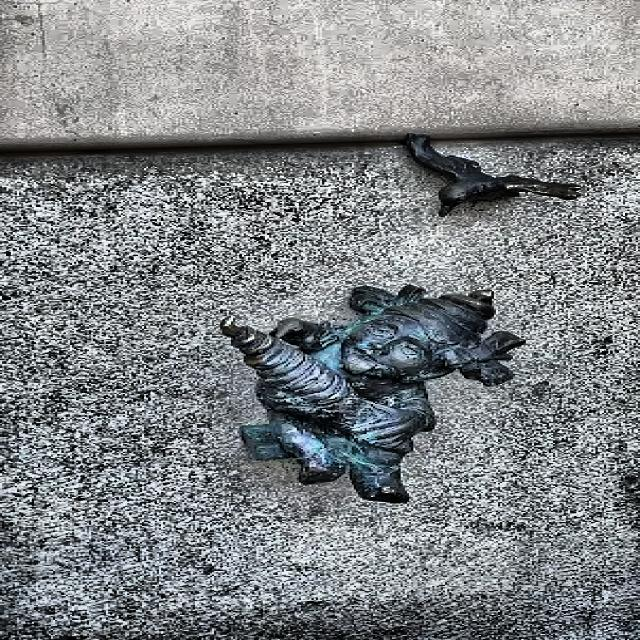Dziupelka: (220, 285, 526, 504), (405, 134, 583, 218)
